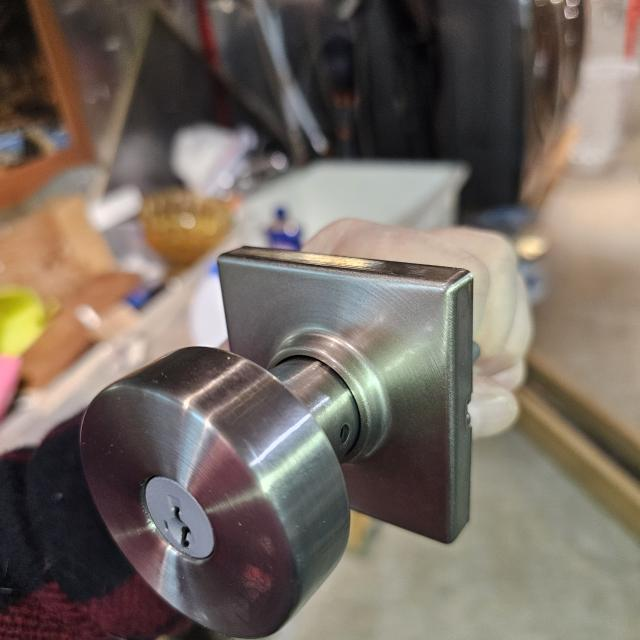door-knob: (80, 248, 472, 638)
